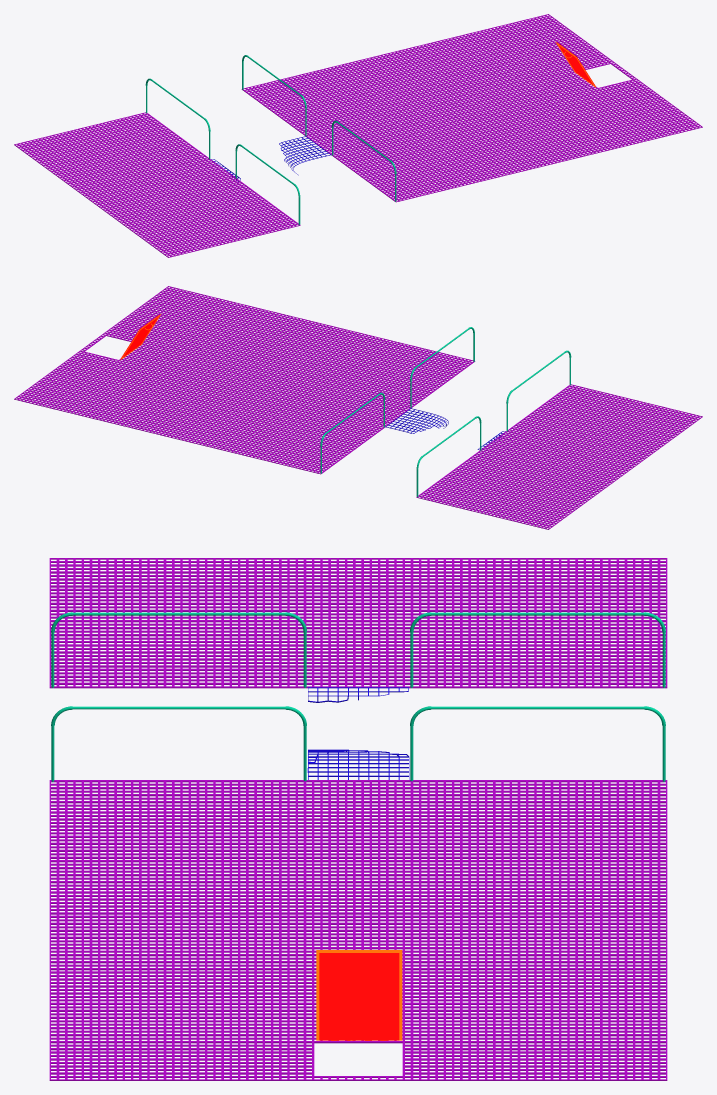
File: MeshFloor.FBX
3 renders of one model, top to bottom at view 1: azimuth 30°, elevation 25°; view 2: azimuth 150°, elevation 25°; view 3: azimuth 270°, elevation 25°, orthographic. The views are drawn at different scales.
Parts seen in each view (by area): view 1: MeshFloor003, MeshFloor002, MeshFloor004, MeshFloor005, MeshBridge001, Hatch; view 2: MeshFloor003, MeshFloor002, MeshFloor005, MeshFloor004, MeshBridge001, Hatch; view 3: MeshFloor003, MeshFloor002, MeshFloor004, MeshFloor005, Hatch, MeshBridge001, Fence001, Fence002, Fence003, Fence004.
Boxes of the visible parts, x1=… form: MeshFloor003: x1=241, y1=23, x2=663, y2=202; MeshFloor002: x1=14, y1=112, x2=300, y2=257; MeshFloor004: x1=598, y1=79, x2=702, y2=136; MeshFloor005: x1=509, y1=14, x2=614, y2=69; MeshBridge001: x1=279, y1=136, x2=330, y2=175; Hatch: x1=555, y1=41, x2=595, y2=87; MeshFloor003: x1=53, y1=295, x2=475, y2=474; MeshFloor002: x1=416, y1=384, x2=702, y2=529; MeshFloor005: x1=14, y1=351, x2=118, y2=408; MeshFloor004: x1=102, y1=286, x2=207, y2=342; MeshBridge001: x1=386, y1=408, x2=448, y2=433; Hatch: x1=120, y1=314, x2=160, y2=359; MeshFloor003: x1=49, y1=780, x2=667, y2=1043; MeshFloor002: x1=49, y1=558, x2=667, y2=688; MeshFloor004: x1=49, y1=1041, x2=314, y2=1080; MeshFloor005: x1=402, y1=1041, x2=667, y2=1080; Hatch: x1=316, y1=950, x2=402, y2=1040; MeshBridge001: x1=307, y1=749, x2=409, y2=779; Fence001: x1=410, y1=706, x2=665, y2=782; Fence002: x1=51, y1=706, x2=306, y2=782; Fence003: x1=410, y1=612, x2=665, y2=688; Fence004: x1=51, y1=612, x2=306, y2=688.
Size of the model in its own units: 787 by 70.3 by 394.
